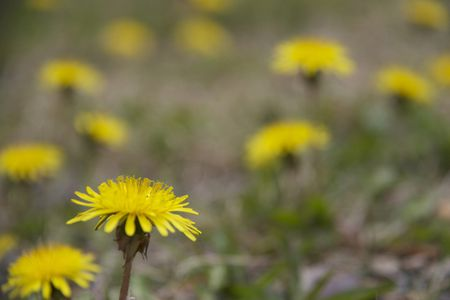dandelion: (84, 181, 188, 232), (10, 256, 96, 288)
